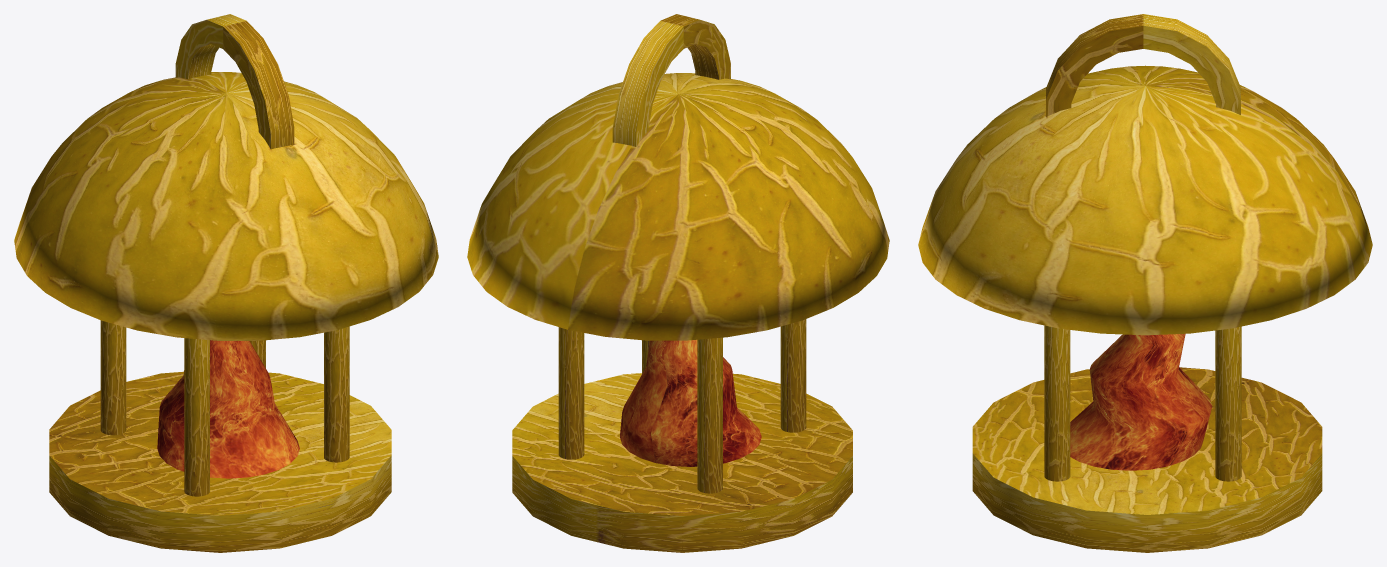
File: lantern_mushroom.FBX
3 renders of one model, left to right at view 1: azimuth 30°, elevation 25°; view 2: azimuth 150°, elevation 25°; view 3: azimuth 270°, elevation 25°, orthographic. The views are drawn at different scales.
Parts seen in each view (by area): view 1: Cylinder001, Cone001; view 2: Cylinder001, Cone001; view 3: Cylinder001, Cone001.
Part boxes in pixels (left/top/right/bottom): Cylinder001: left=14, top=14, right=438, bottom=552; Cone001: left=157, top=340, right=299, bottom=478; Cylinder001: left=467, top=14, right=889, bottom=552; Cone001: left=620, top=339, right=761, bottom=466; Cylinder001: left=918, top=14, right=1372, bottom=552; Cone001: left=1070, top=333, right=1212, bottom=470.
Bounding box in the file's own units: 0.0481 × 0.0512 × 0.0577.
Materials: 2 (2 with a texture image).
